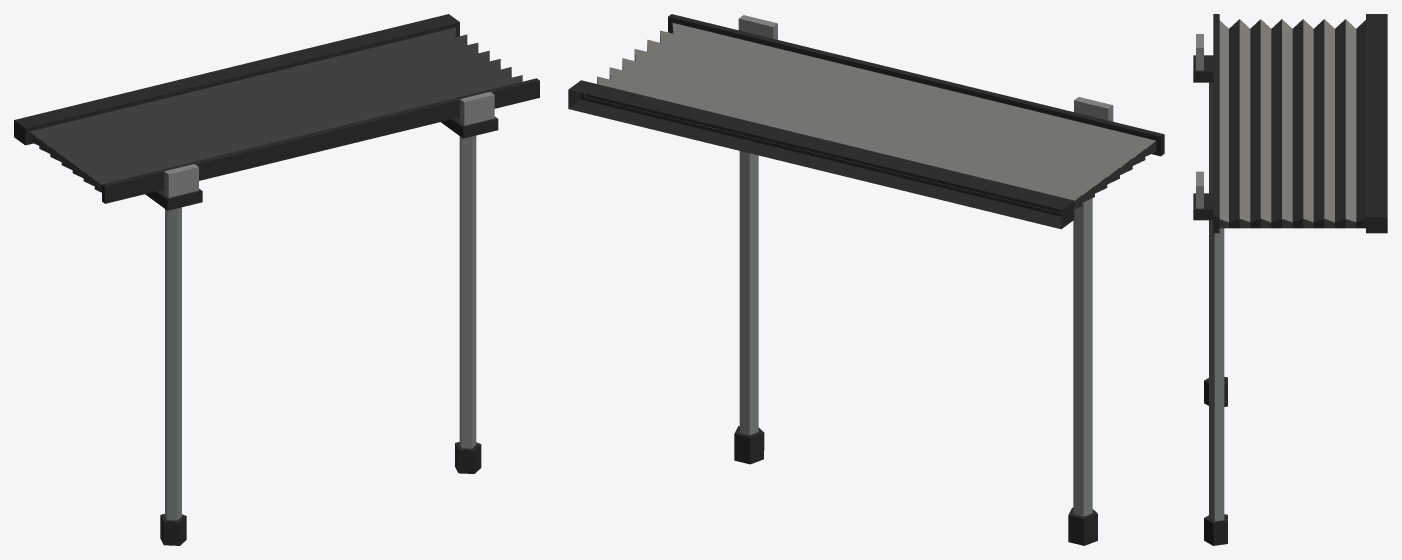
Rendered from Awning_C_01.FBX.
3 renders of one model, left to right at view 1: azimuth 30°, elevation 25°; view 2: azimuth 150°, elevation 25°; view 3: azimuth 270°, elevation 25°, orthographic. The views are drawn at different scales.
Visible parts, largest first — view 1: Awning_C_01; view 2: Awning_C_01; view 3: Awning_C_01.
Boxes of the visible parts, x1,y1,x2,y2 form: Awning_C_01: [14, 14, 539, 545]; Awning_C_01: [568, 14, 1164, 545]; Awning_C_01: [1193, 14, 1387, 545].
Bounding box in the file's own units: 3.85 × 3.2 × 1.56.
